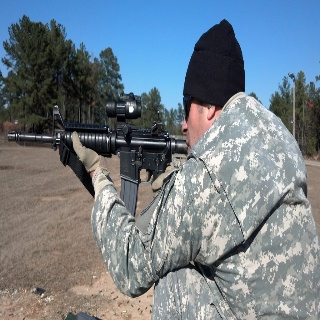rifle: (8, 99, 191, 219)
